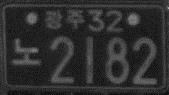1: (85, 34, 94, 85)
2: (49, 34, 75, 84), (132, 36, 158, 86), (106, 9, 123, 33)
3: (87, 8, 104, 32)
8: (105, 36, 129, 85)
광주_O: (44, 7, 85, 30)
노: (11, 37, 43, 66)
